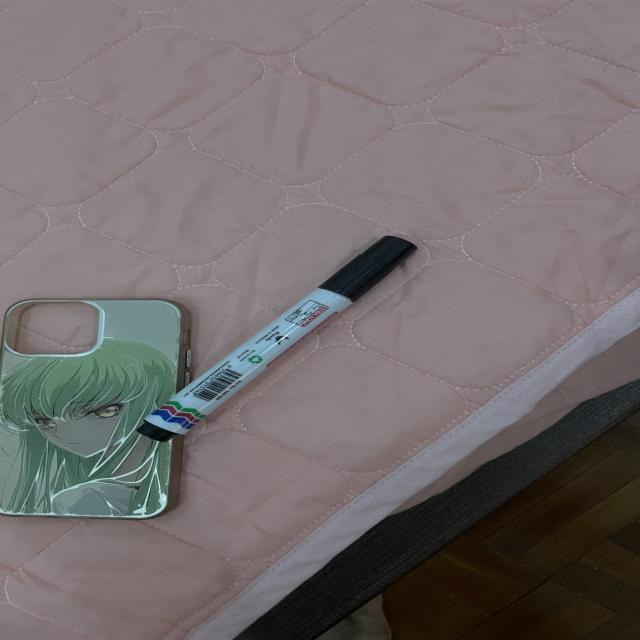marker: (134, 236, 416, 442)
